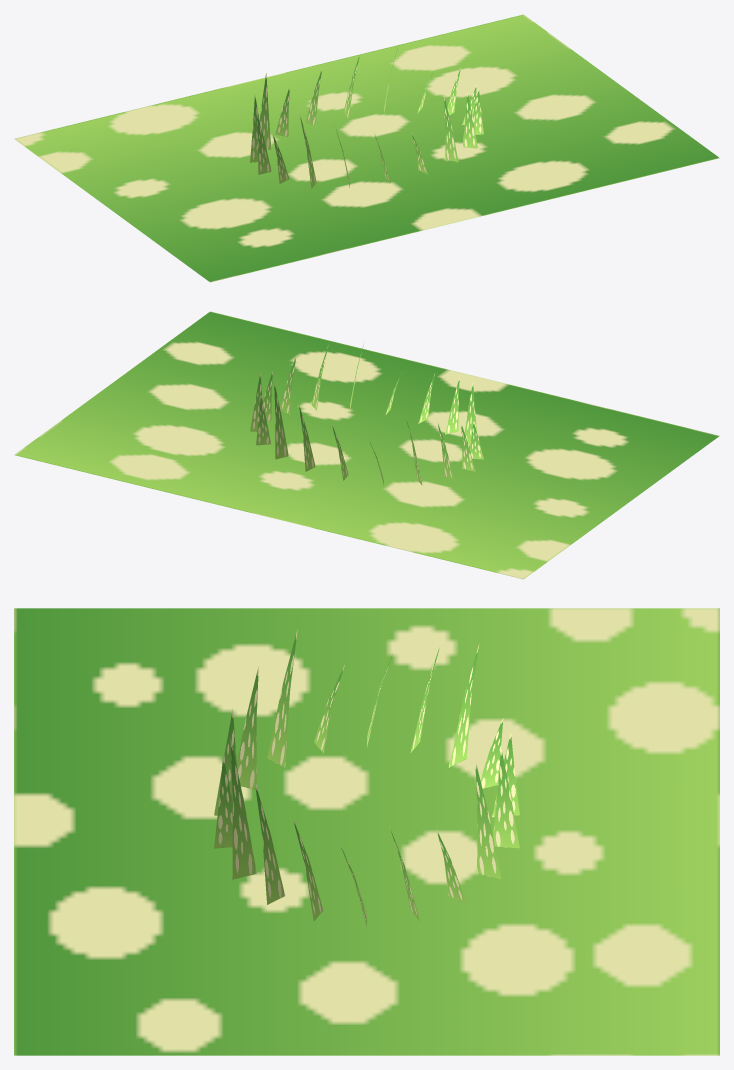
File: soft_grass_patch.obj
3 renders of one model, top to bottom at view 1: azimuth 30°, elevation 25°; view 2: azimuth 150°, elevation 25°; view 3: azimuth 270°, elevation 25°, orthographic. The views are drawn at different scales.
Visible parts, largest first — view 1: soft_grass_patch; view 2: soft_grass_patch; view 3: soft_grass_patch.
Boxes of the visible parts, x1,y1,x2,y2 form: soft_grass_patch: (14,14,719,282); soft_grass_patch: (14,311,719,579); soft_grass_patch: (14,608,719,1055).
Size of the model in its own units: 3 by 0.4 by 2.
1 material, 1 textured.
